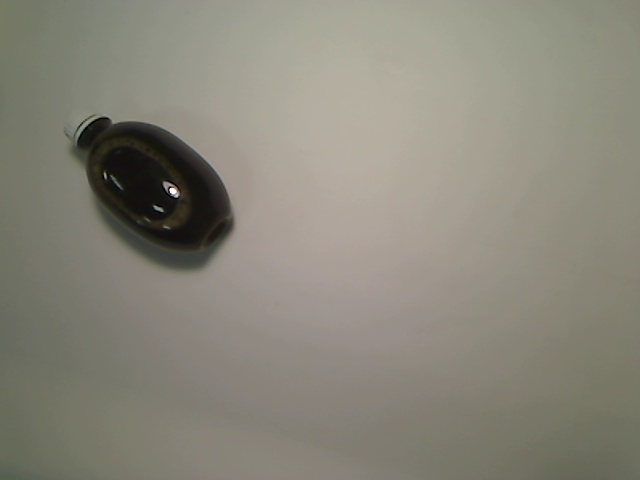plast_bottle: (62, 107, 236, 256)
